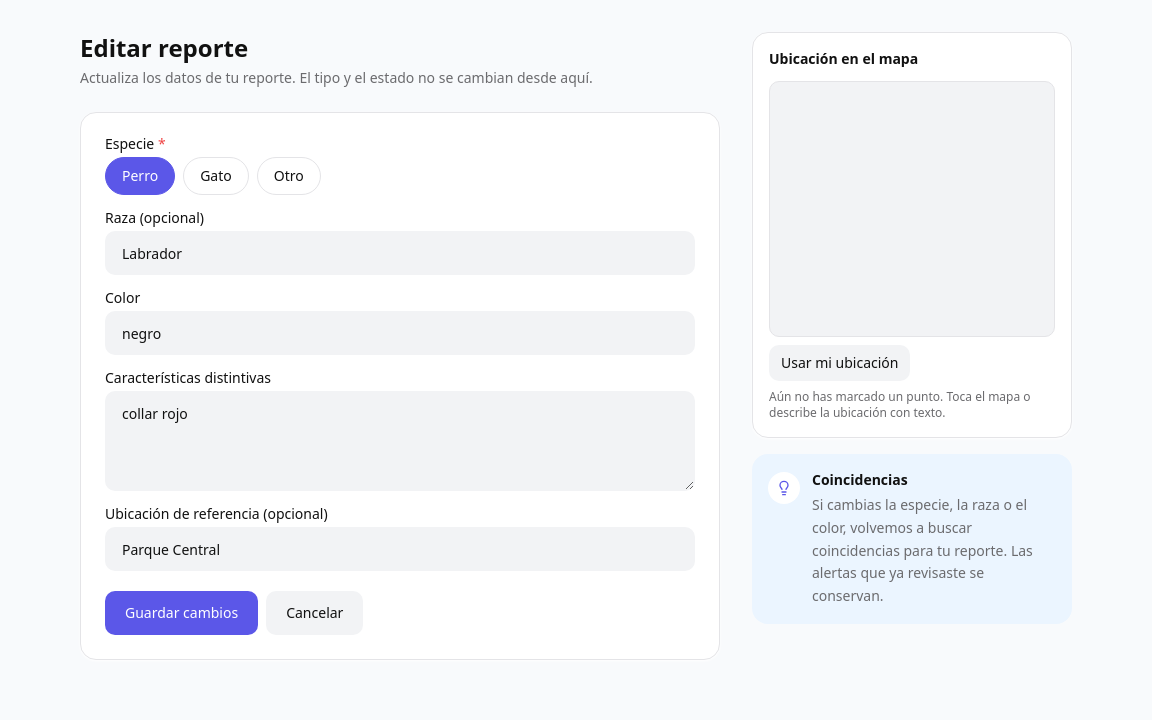
Scenario: EditarReporte (HU17) › cambiar el texto de ubicación sin punto en el mapa pide marcarlo
Check: the form with test id "editar-form" is shown, box [80,112,720,660]
Replace the text in the field labelled "Ubicación de referencia (opcional)" with "Av. 5": (400, 549) [105,527,695,571]
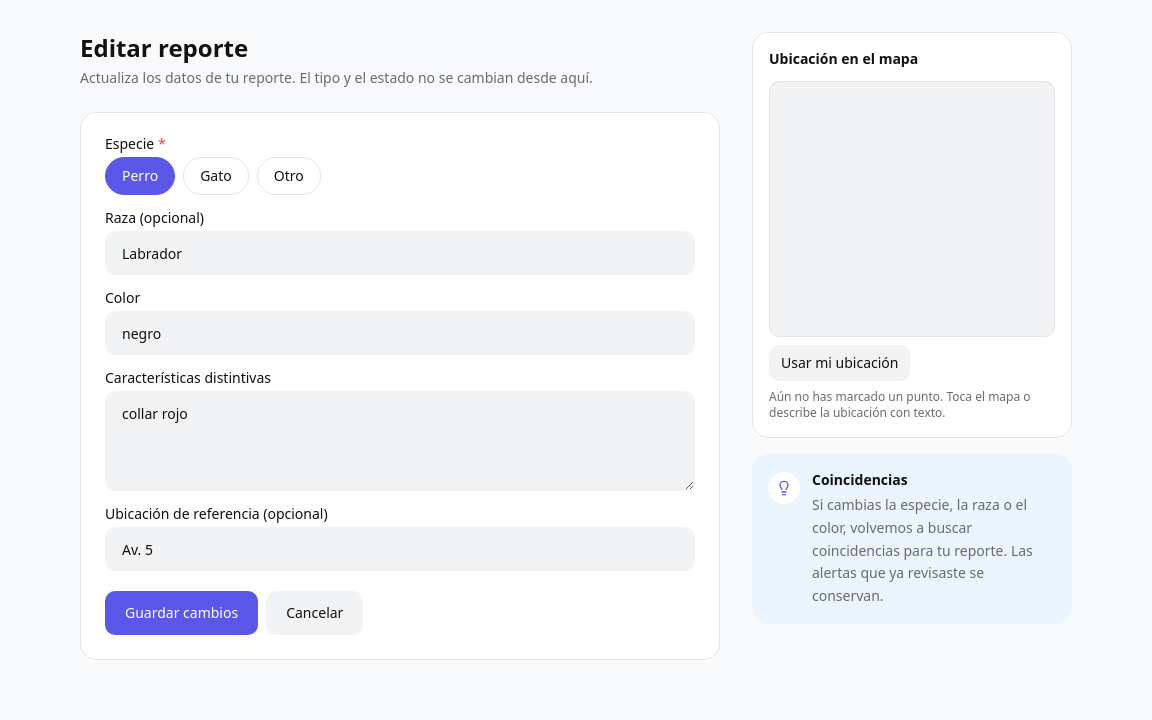
Click the button "Guardar cambios": (182, 613) [105,591,258,635]
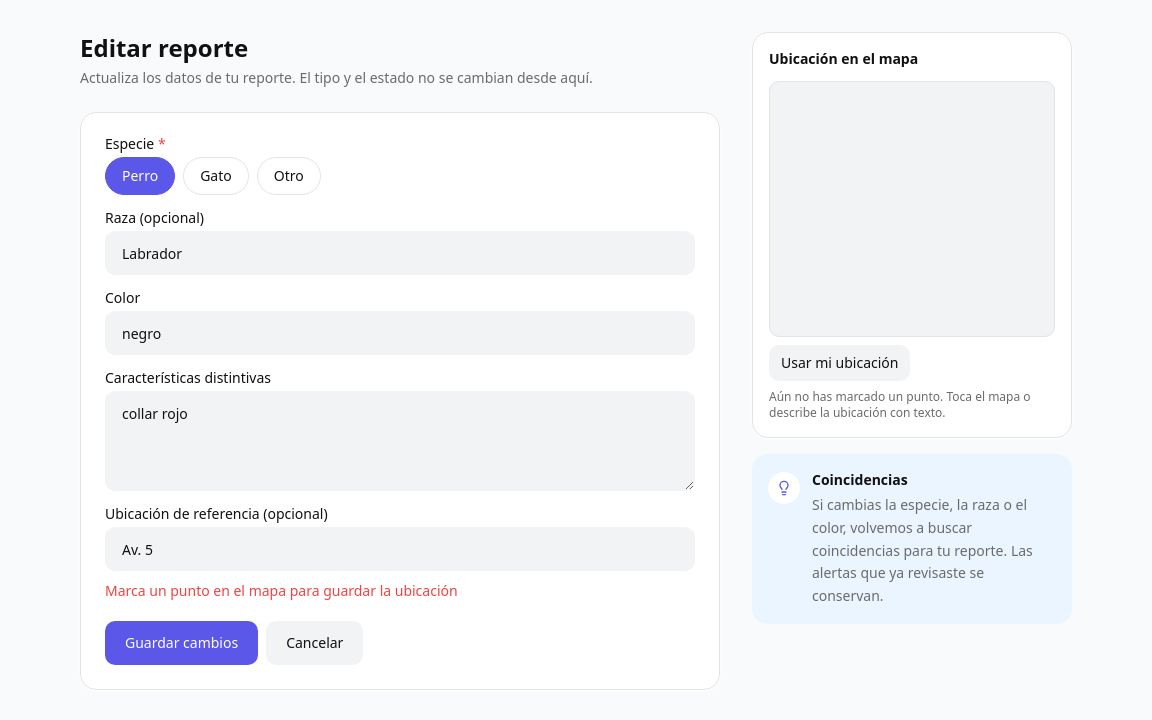
Check: the text "Marca un punto en el mapa para guardar la ubicación" is shown, box [105,581,458,600]
